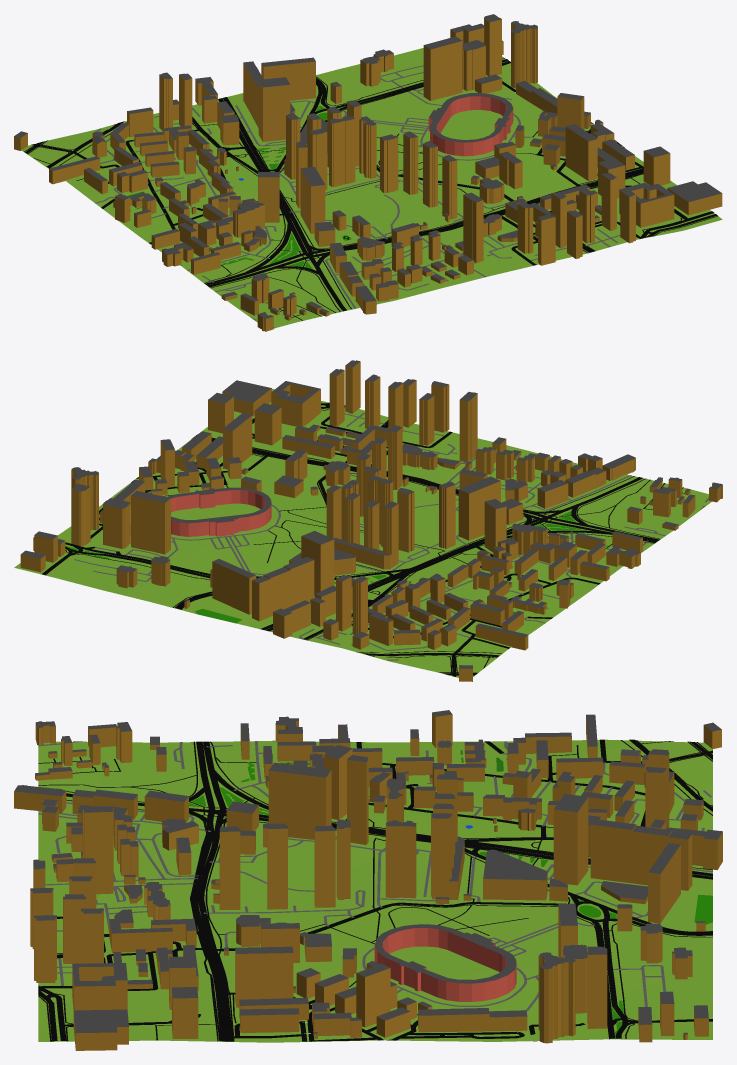
Rendered from tile_05_02.glb.
The picture shows the model from 3 angles, top to bottom: view 1: azimuth 30°, elevation 25°; view 2: azimuth 150°, elevation 25°; view 3: azimuth 270°, elevation 25°; orthographic projection. The views are drawn at different scales.
Visible parts, largest first — view 1: Ub_small.osm_buildings_05_02, Terrain_05_02, Ub_small.osm_roads_service_05_02, Ub_small.osm_buildings.001_05_02, Ub_small.osm_paths_footway_05_02, Ub_small.osm_roads_trunk_05_02, Ub_small.osm_roads_secondary_05_02, Ub_small.osm_roads_residential_05_02, Ub_small.osm_roads_primary_05_02, Ub_small.osm_vegetation_05_02; view 2: Ub_small.osm_buildings_05_02, Terrain_05_02, Ub_small.osm_buildings.001_05_02, Ub_small.osm_roads_service_05_02, Ub_small.osm_paths_footway_05_02, Ub_small.osm_roads_secondary_05_02, Ub_small.osm_roads_trunk_05_02, Ub_small.osm_roads_residential_05_02, Ub_small.osm_roads_primary_05_02, Ub_small.osm_vegetation_05_02; view 3: Ub_small.osm_buildings_05_02, Terrain_05_02, Ub_small.osm_buildings.001_05_02, Ub_small.osm_roads_service_05_02, Ub_small.osm_paths_footway_05_02, Ub_small.osm_roads_residential_05_02, Ub_small.osm_roads_secondary_05_02, Ub_small.osm_roads_primary_05_02, Ub_small.osm_roads_trunk_05_02, Ub_small.osm_vegetation_05_02, Ub_small.osm_roads_unclassified_05_02.
Part boxes in pixels (bbox=[...]): Ub_small.osm_buildings_05_02: bbox=[14, 14, 722, 331]; Terrain_05_02: bbox=[21, 48, 722, 327]; Ub_small.osm_roads_service_05_02: bbox=[94, 65, 620, 328]; Ub_small.osm_buildings.001_05_02: bbox=[428, 93, 513, 156]; Ub_small.osm_paths_footway_05_02: bbox=[24, 58, 717, 320]; Ub_small.osm_roads_trunk_05_02: bbox=[205, 97, 324, 287]; Ub_small.osm_roads_secondary_05_02: bbox=[47, 59, 717, 238]; Ub_small.osm_roads_residential_05_02: bbox=[31, 81, 687, 265]; Ub_small.osm_roads_primary_05_02: bbox=[308, 169, 643, 311]; Ub_small.osm_vegetation_05_02: bbox=[209, 106, 351, 269]; Ub_small.osm_buildings_05_02: bbox=[20, 360, 722, 681]; Terrain_05_02: bbox=[14, 388, 711, 677]; Ub_small.osm_buildings.001_05_02: bbox=[166, 487, 271, 536]; Ub_small.osm_roads_service_05_02: bbox=[74, 412, 708, 660]; Ub_small.osm_paths_footway_05_02: bbox=[45, 403, 684, 675]; Ub_small.osm_roads_secondary_05_02: bbox=[65, 403, 499, 657]; Ub_small.osm_roads_trunk_05_02: bbox=[261, 505, 659, 631]; Ub_small.osm_roads_residential_05_02: bbox=[86, 405, 600, 676]; Ub_small.osm_roads_primary_05_02: bbox=[192, 435, 642, 519]; Ub_small.osm_vegetation_05_02: bbox=[65, 436, 608, 623]; Ub_small.osm_buildings_05_02: bbox=[14, 710, 722, 1050]; Terrain_05_02: bbox=[38, 739, 712, 1042]; Ub_small.osm_buildings.001_05_02: bbox=[374, 924, 516, 1002]; Ub_small.osm_roads_service_05_02: bbox=[38, 740, 712, 1011]; Ub_small.osm_paths_footway_05_02: bbox=[38, 740, 712, 1041]; Ub_small.osm_roads_residential_05_02: bbox=[38, 739, 712, 1041]; Ub_small.osm_roads_secondary_05_02: bbox=[38, 739, 712, 1041]; Ub_small.osm_roads_primary_05_02: bbox=[66, 793, 232, 1041]; Ub_small.osm_roads_trunk_05_02: bbox=[189, 741, 712, 878]; Ub_small.osm_vegetation_05_02: bbox=[189, 762, 712, 1039]; Ub_small.osm_roads_unclassified_05_02: bbox=[217, 902, 566, 950].
Size of the model in its own units: 1034 by 135 by 978.
